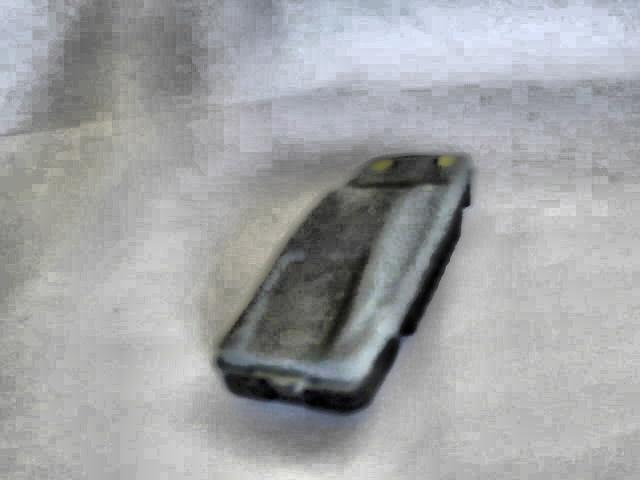normal_car: (208, 148, 477, 419)
